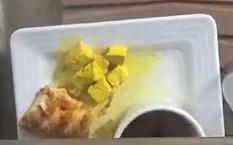pizza_crust: (20, 86, 91, 137)
tofu: (57, 41, 128, 106)
